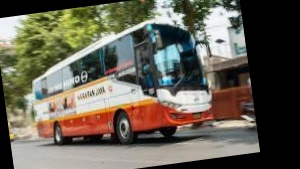bus: (23, 12, 218, 155)
